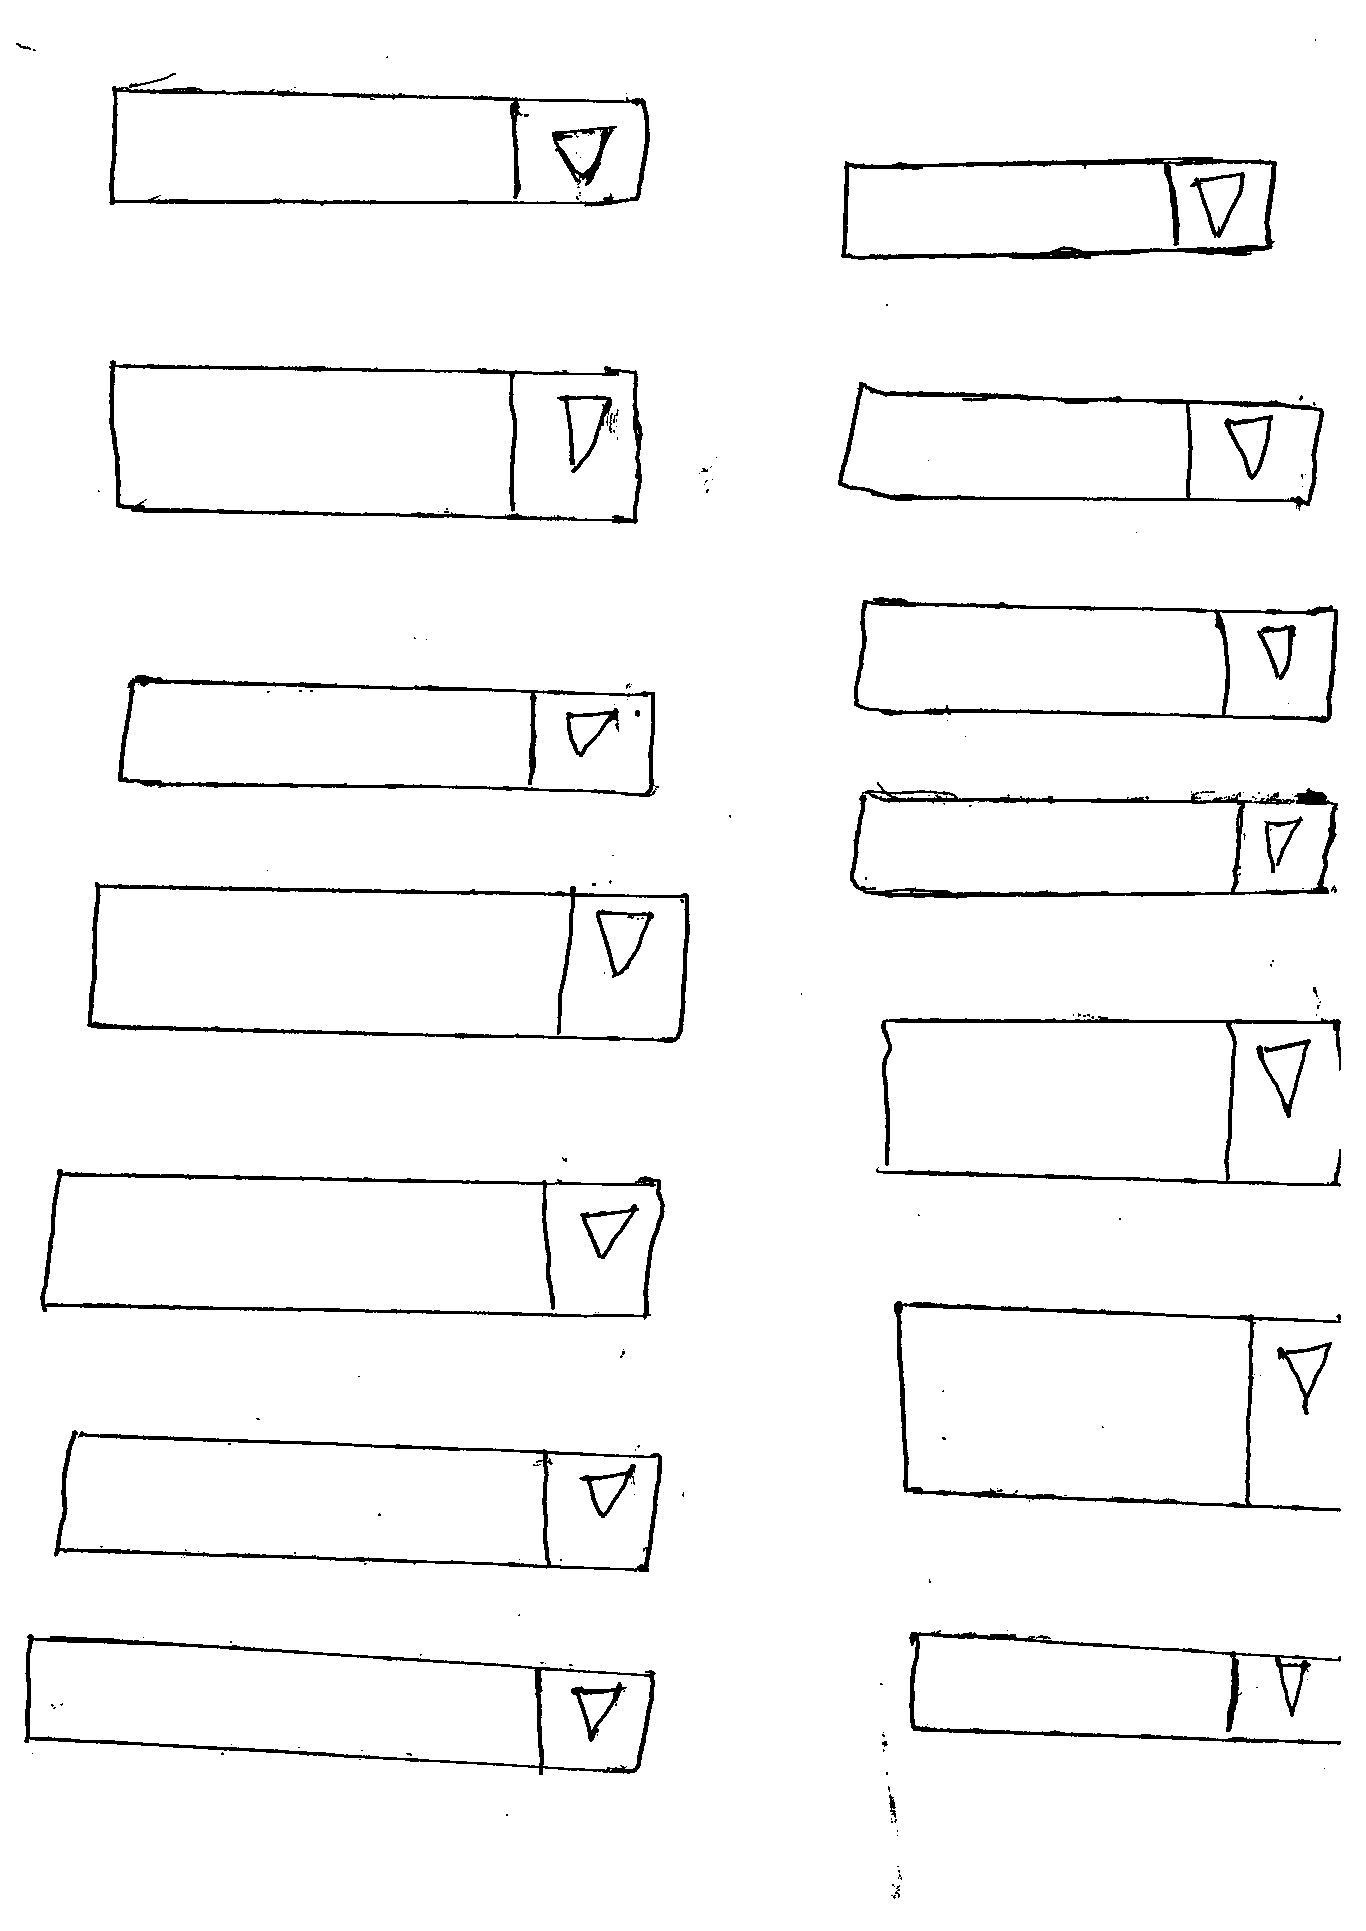Select: (33, 1170, 665, 1323), (44, 1428, 668, 1576), (18, 1632, 659, 1773), (109, 362, 648, 526), (109, 670, 659, 800), (101, 84, 656, 208), (843, 597, 1342, 723), (835, 384, 1328, 509), (846, 785, 1345, 903), (835, 152, 1283, 265)
